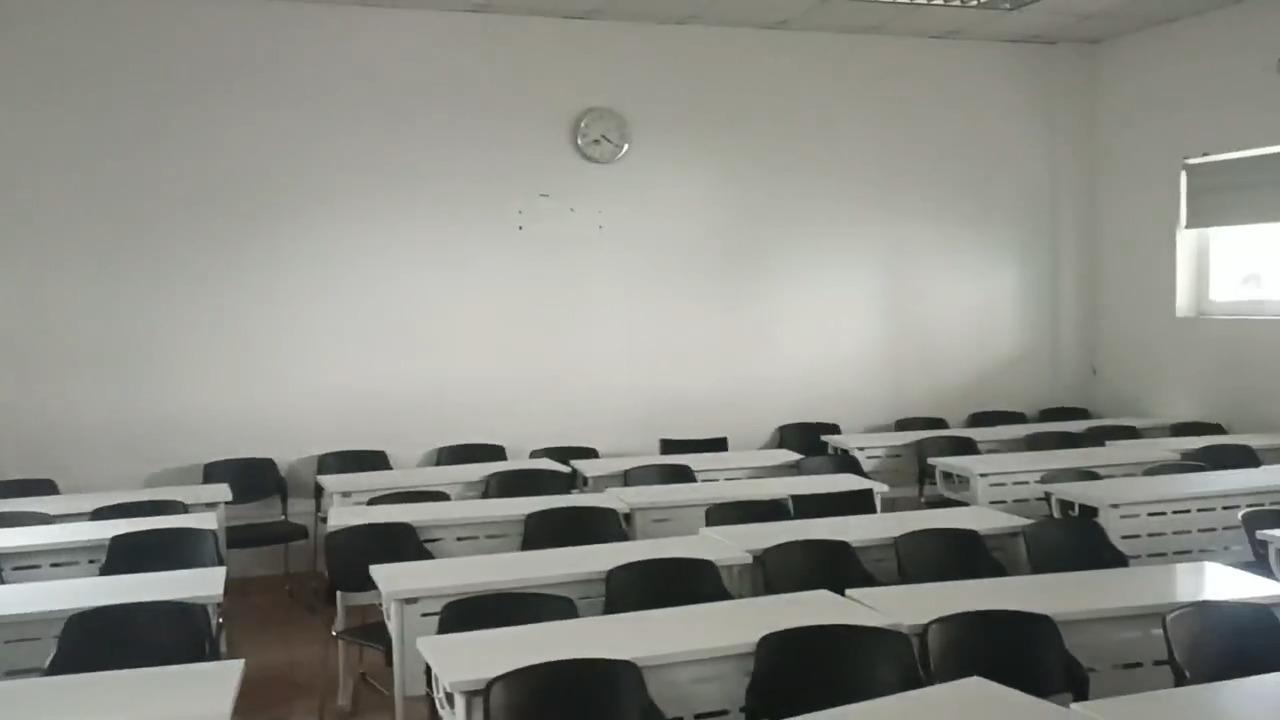chair: (305, 517, 435, 704), (30, 592, 226, 701), (740, 604, 918, 716), (921, 608, 1111, 709), (585, 546, 753, 635), (196, 445, 317, 566), (427, 588, 602, 665), (742, 539, 897, 618), (477, 658, 673, 720), (1008, 510, 1155, 586), (1154, 597, 1280, 683), (879, 522, 1015, 601), (97, 527, 236, 590), (765, 451, 884, 494), (516, 505, 629, 548), (768, 410, 852, 462), (1030, 465, 1120, 512), (481, 460, 584, 500), (907, 430, 988, 478), (1219, 499, 1280, 559), (1018, 428, 1113, 466), (697, 494, 797, 530), (1154, 409, 1236, 452), (792, 485, 895, 518), (82, 496, 204, 523), (1189, 436, 1267, 476), (654, 423, 740, 458), (622, 457, 697, 497), (313, 443, 388, 482), (1138, 454, 1205, 496), (1091, 410, 1149, 454), (963, 395, 1028, 433), (357, 490, 459, 514), (886, 401, 955, 436), (1037, 394, 1096, 432), (526, 436, 609, 463), (1, 502, 58, 539), (424, 435, 508, 459), (1, 471, 59, 490)
clock: (572, 105, 639, 169), (1259, 525, 1278, 565)
table: (373, 531, 749, 717), (418, 592, 899, 719), (842, 561, 1279, 697), (0, 567, 229, 672), (715, 503, 1032, 577), (1037, 469, 1279, 565), (3, 662, 247, 719), (334, 489, 627, 532), (803, 678, 1075, 719), (605, 472, 882, 508), (930, 439, 1169, 477), (1063, 677, 1277, 719), (317, 458, 569, 492), (0, 510, 219, 549), (827, 425, 1058, 454), (0, 485, 230, 512), (570, 451, 795, 478), (1138, 430, 1279, 456), (1027, 414, 1168, 436)
